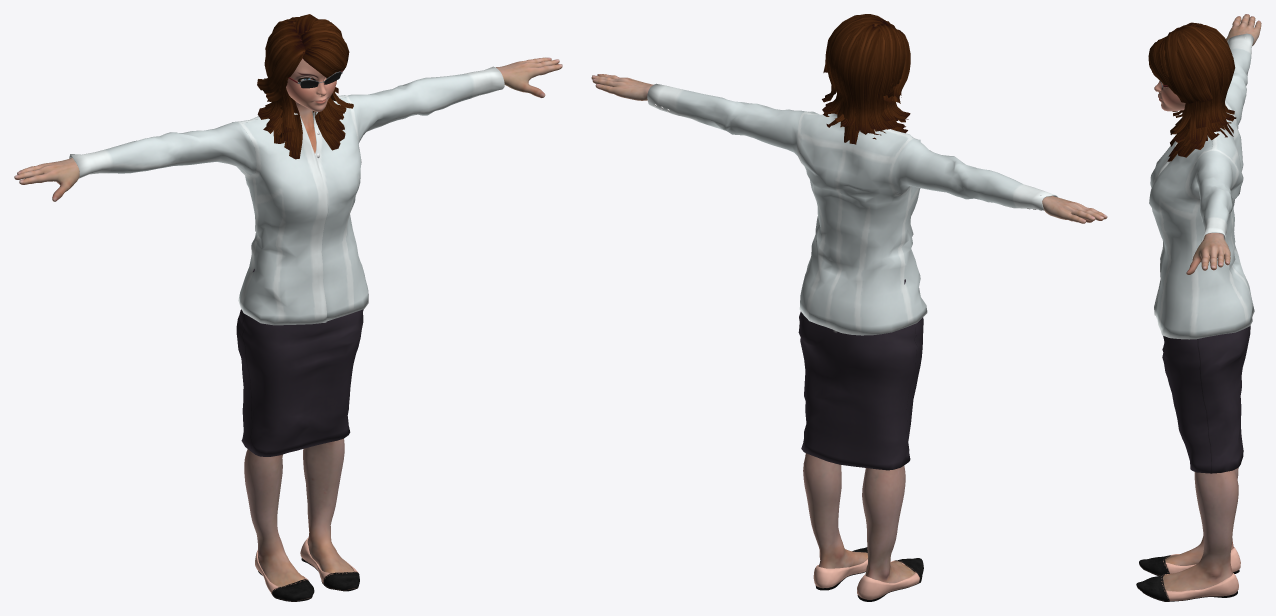
File: gid.obj
3 views of the same model, side by side, from view 1: azimuth 30°, elevation 25°; view 2: azimuth 150°, elevation 25°; view 3: azimuth 270°, elevation 25° (orthographic).
Parts seen in each view (by area): view 1: Tops, Bottoms, Body, Hair, Shoes; view 2: Tops, Bottoms, Body, Hair, Shoes; view 3: Tops, Bottoms, Hair, Body, Shoes.
Boxes of the visible parts, x1,y1,x2,y2 form: Tops: (69,66,504,325); Bottoms: (236,269,363,456); Body: (14,39,562,587); Hair: (257,14,353,159); Shoes: (255,537,359,601); Tops: (647,83,1057,335); Bottoms: (798,279,923,470); Body: (591,74,1107,583); Hair: (822,14,910,144); Shoes: (813,547,923,601); Tops: (1149,33,1254,339); Bottoms: (1162,325,1250,473); Hair: (1148,22,1236,161); Body: (1154,14,1261,591); Shoes: (1136,547,1240,601).
Size of the model in its own units: 170 by 174 by 35.37.
1 material, 1 textured.
